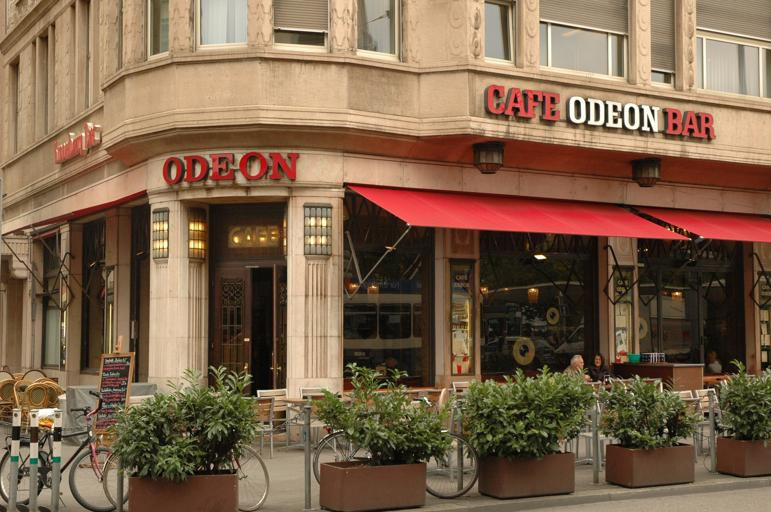non-vehicle: (312, 397, 480, 498), (0, 390, 129, 511), (102, 444, 268, 511)
